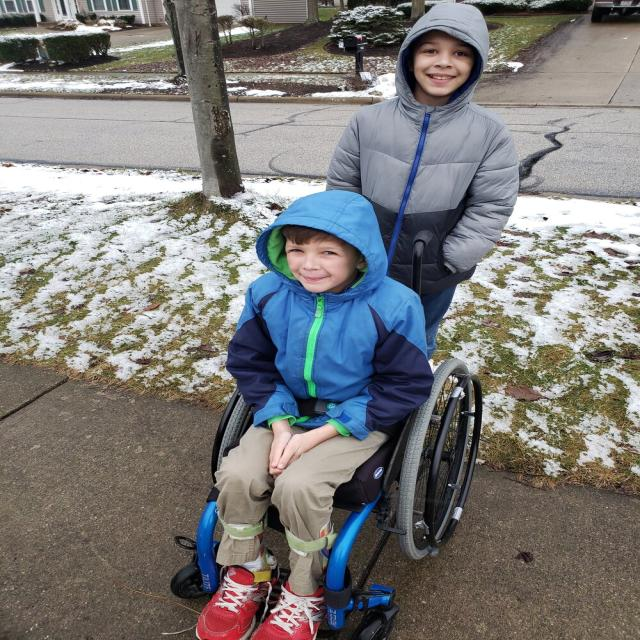wheelchairs: (169, 343, 493, 640)
